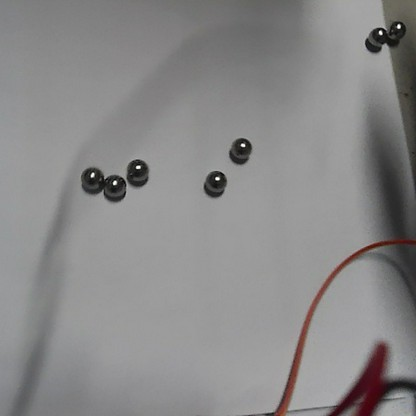ironball: (124, 156, 152, 186), (78, 162, 104, 194), (204, 167, 232, 194), (229, 133, 254, 159), (104, 171, 126, 200), (365, 25, 390, 50), (386, 16, 407, 42)
